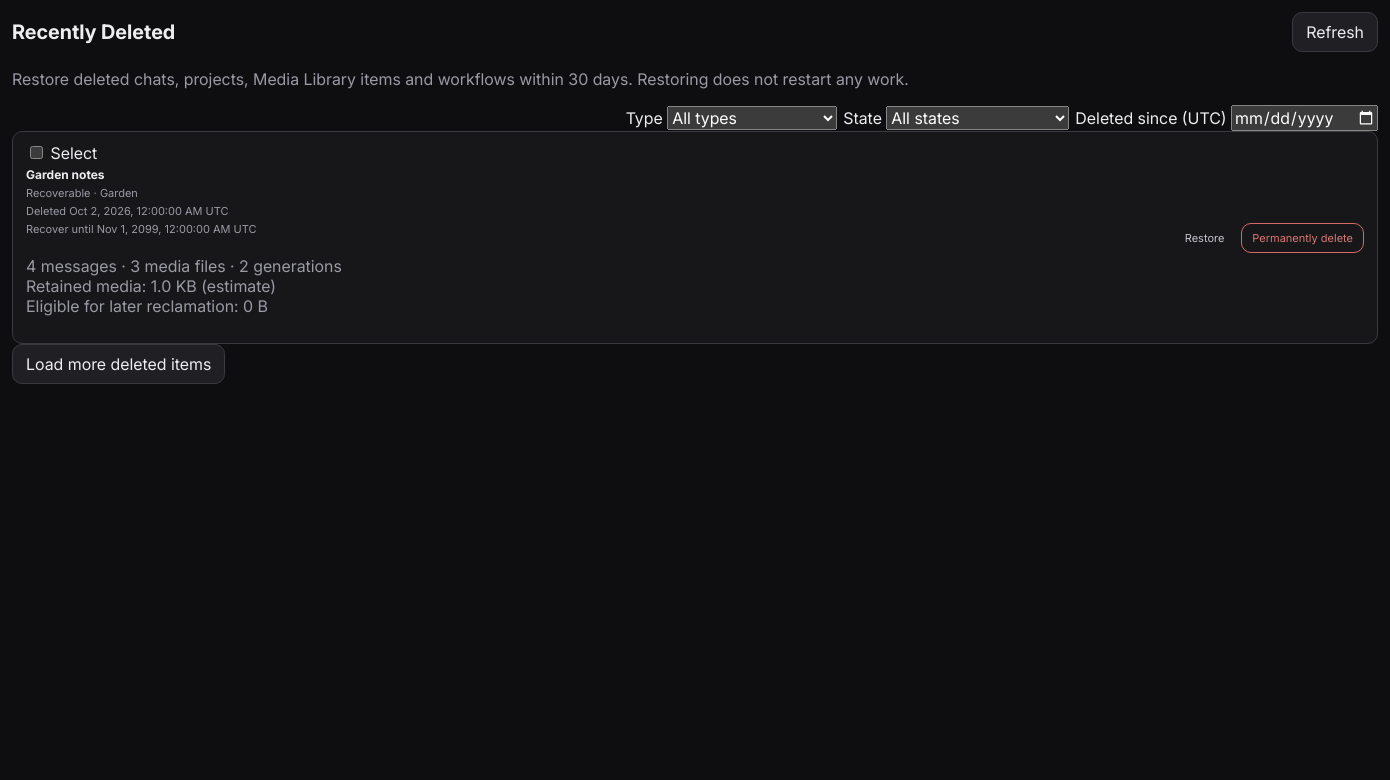
Test: loads another bounded page while showing exact expiry and structural impact
The width and height of the screenshot is (1390, 780).
Expected: the text "Garden notes" is shown, [26,167,105,182]
Expected: the text "Nov 1, 2099, 12:00:00 AM UTC" is shown, [97,222,257,236]
Step 1. Click the button "Load more deleted items" → (119, 364), box [12,344,225,384]
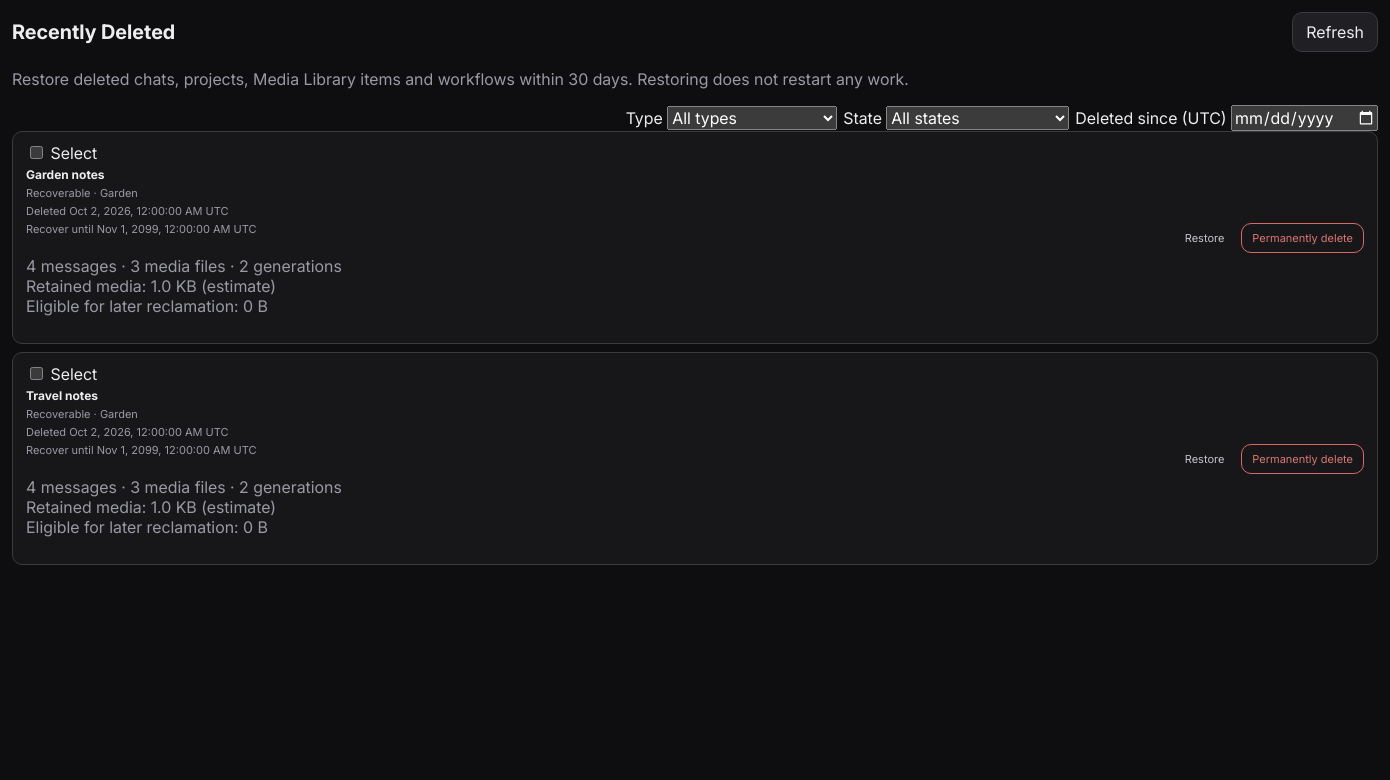
Expected: the text "Garden notes" is shown, [26,167,105,182]
Expected: the text "Travel notes" is shown, [26,388,98,403]
